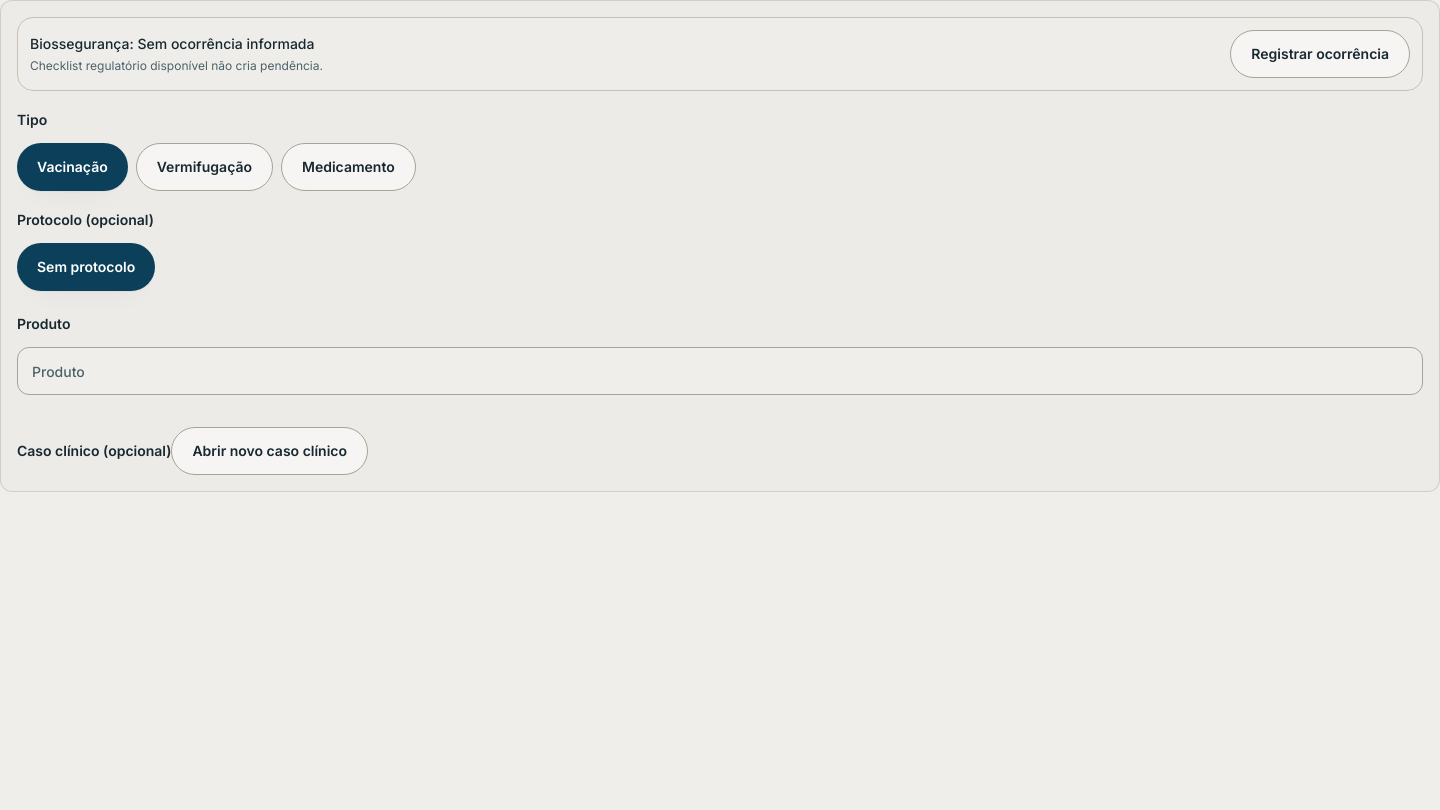
it: RegistrarSanitarioSection › abre o mini wizard ao registrar ocorrência
Click the button "Registrar ocorrência": coordinates (1320, 54) [1230,30,1410,78]
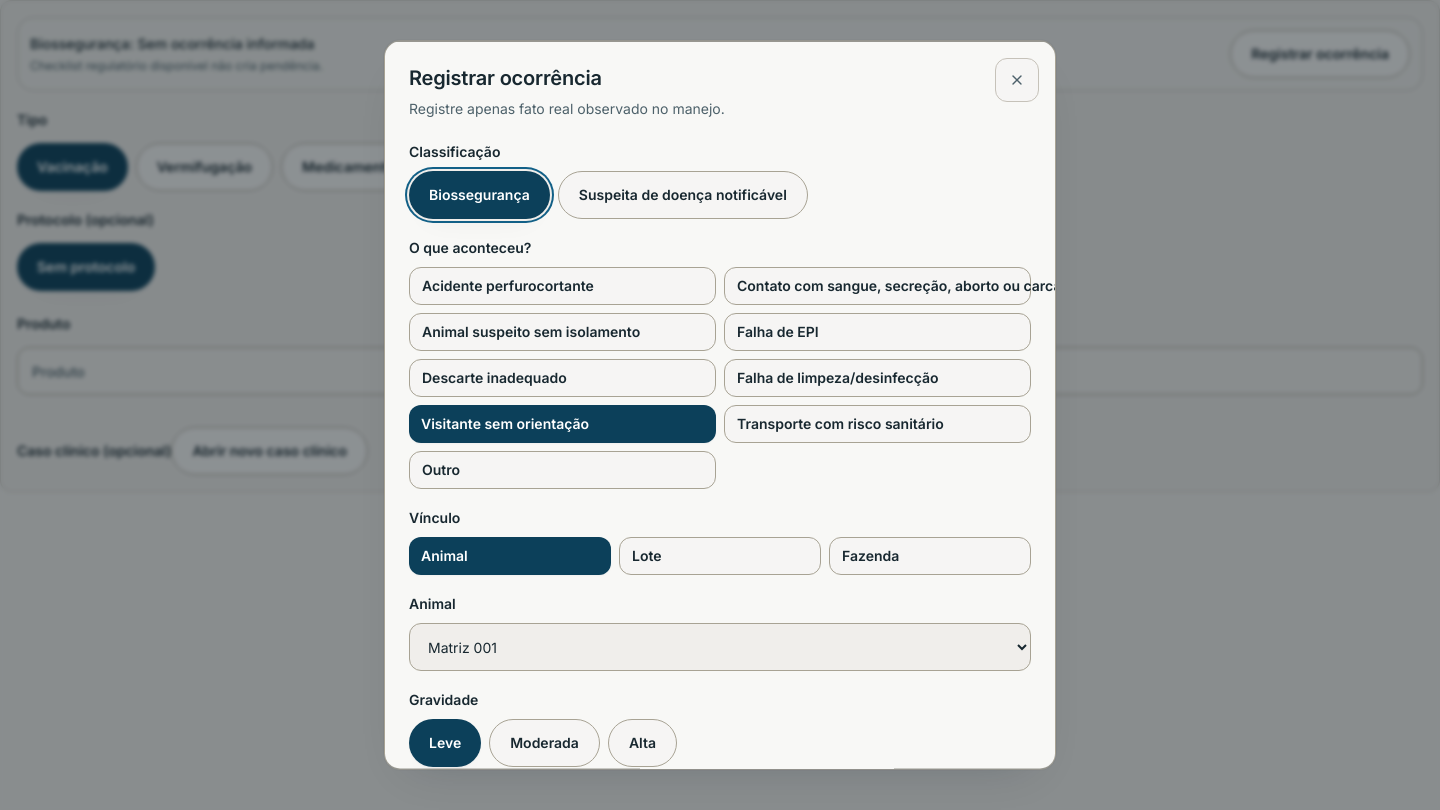
expect the dialog is shown: met, box [384,40,1056,770]
expect the text "O que aconteceu?" is shown: met, box [409,238,531,256]
expect the button "Visitante sem orientação" is shown: met, box [409,404,716,442]
